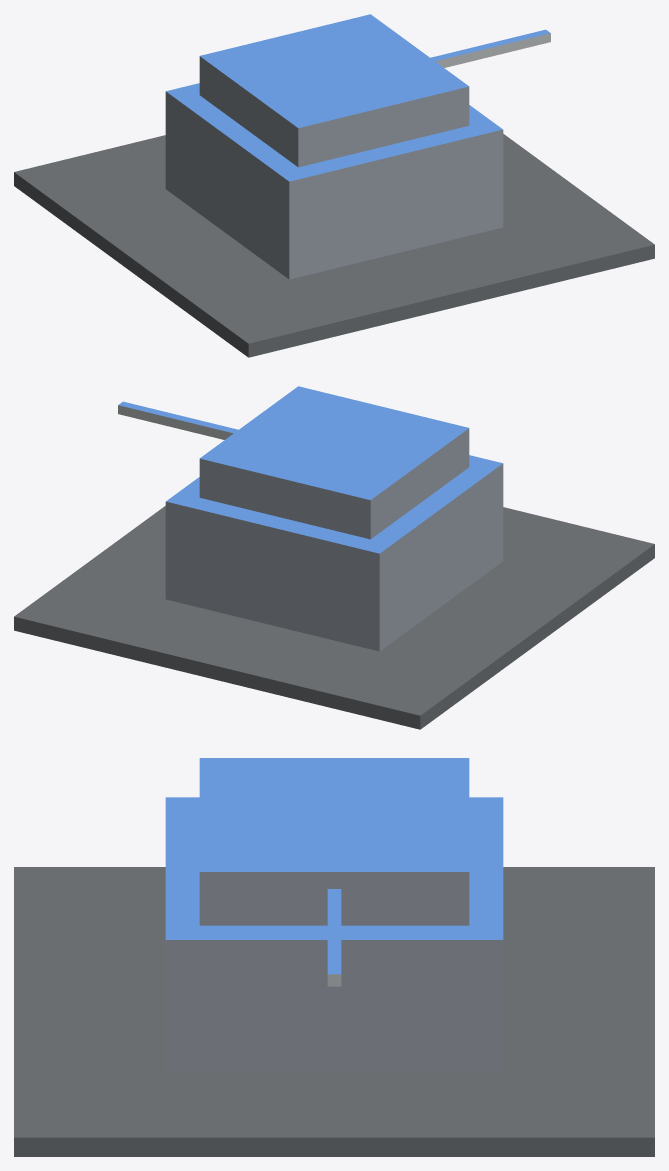
Rendered from veyran_advanced_defences.glb.
3 renders of one model, top to bottom at view 1: azimuth 30°, elevation 25°; view 2: azimuth 150°, elevation 25°; view 3: azimuth 270°, elevation 25°, orthographic. The views are drawn at different scales.
Parts seen in each view (by area): view 1: hull, turret, barrel; view 2: hull, turret, barrel; view 3: hull, turret, barrel.
Boxes of the visible parts, x1,y1,x2,y2 form: hull: [14, 83, 654, 357]; turret: [199, 14, 469, 167]; barrel: [430, 29, 550, 67]; hull: [14, 455, 654, 729]; turret: [199, 386, 469, 539]; barrel: [118, 401, 238, 439]; hull: [14, 797, 654, 1156]; turret: [199, 758, 469, 925]; barrel: [327, 889, 341, 986].
Bounding box in the file's own units: 7.8 × 2.7 × 7.6.
